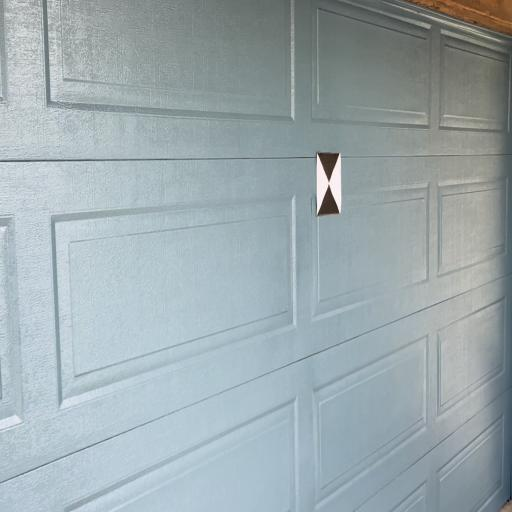target: (316, 153, 343, 216)
